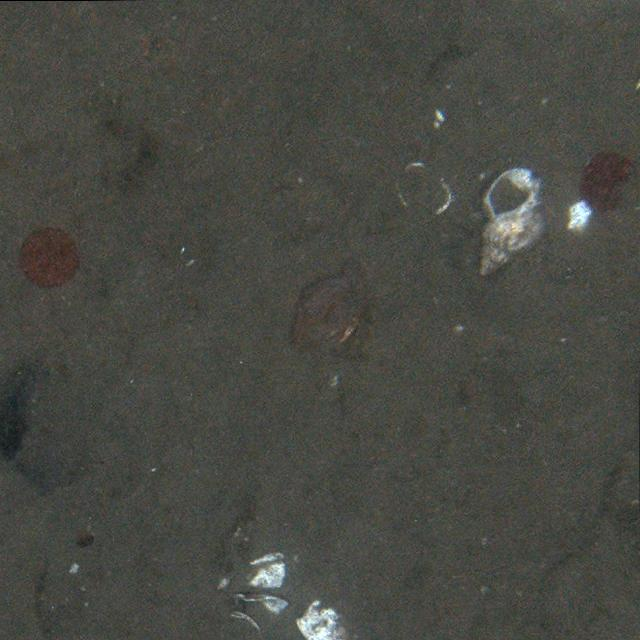crab: (278, 259, 383, 358)
